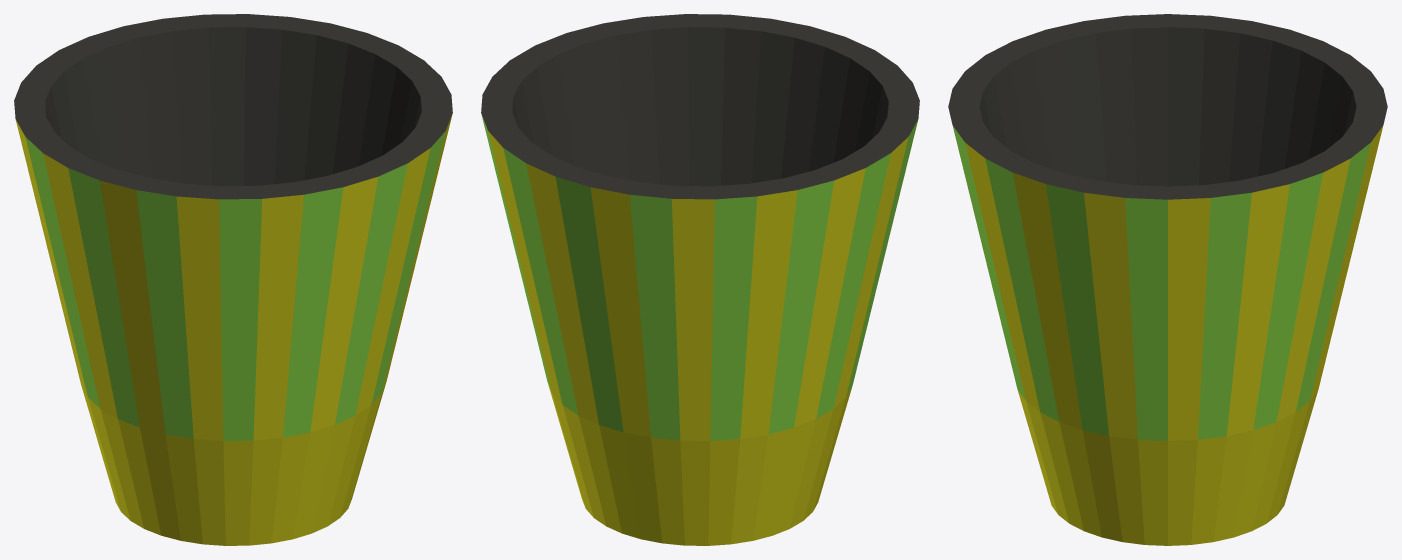
The picture shows the model from 3 angles, left to right: view 1: azimuth 30°, elevation 25°; view 2: azimuth 150°, elevation 25°; view 3: azimuth 270°, elevation 25°; orthographic projection.
Visible parts, largest first — view 1: Circle; view 2: Circle; view 3: Circle.
Boxes of the visible parts, x1=… form: Circle: x1=14, y1=14, x2=452, y2=545; Circle: x1=481, y1=14, x2=919, y2=545; Circle: x1=948, y1=14, x2=1387, y2=545.
Size of the model in its own units: 2539 by 2479 by 2539.
